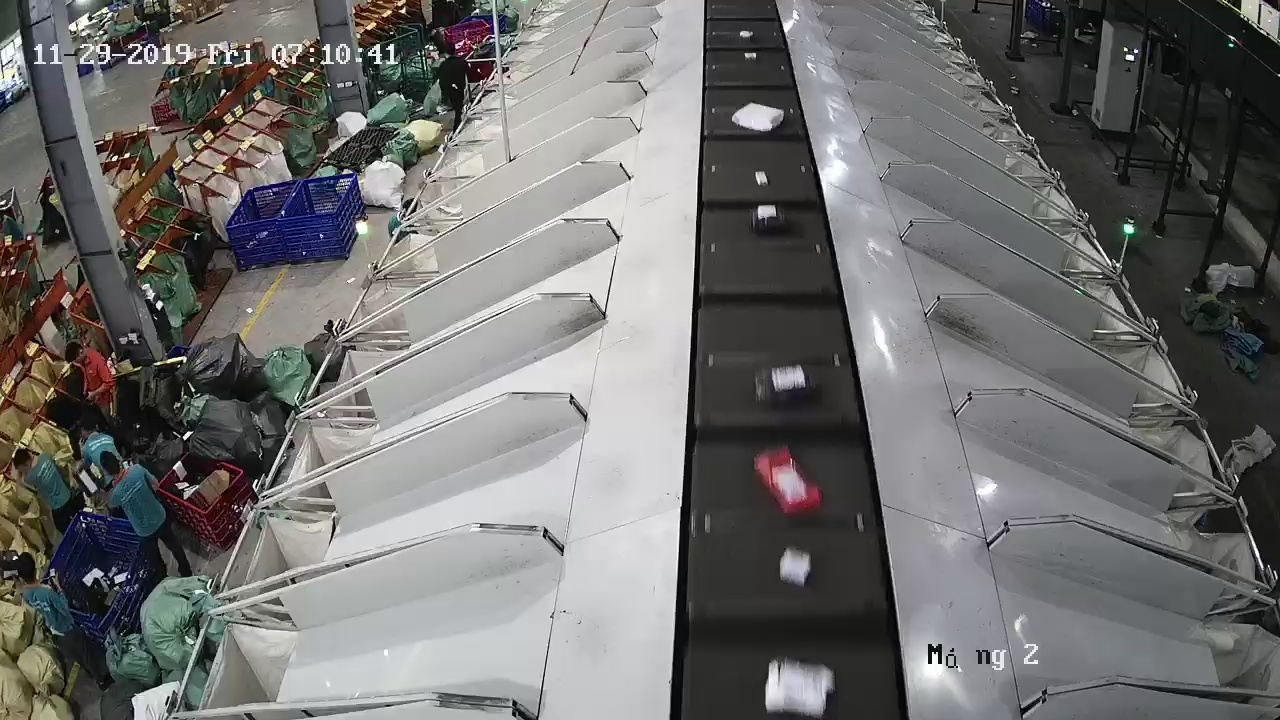parcel: (753, 445, 824, 518), (765, 657, 836, 720), (754, 362, 816, 408), (731, 101, 784, 133), (779, 546, 811, 588), (748, 204, 785, 235), (754, 170, 768, 186)
